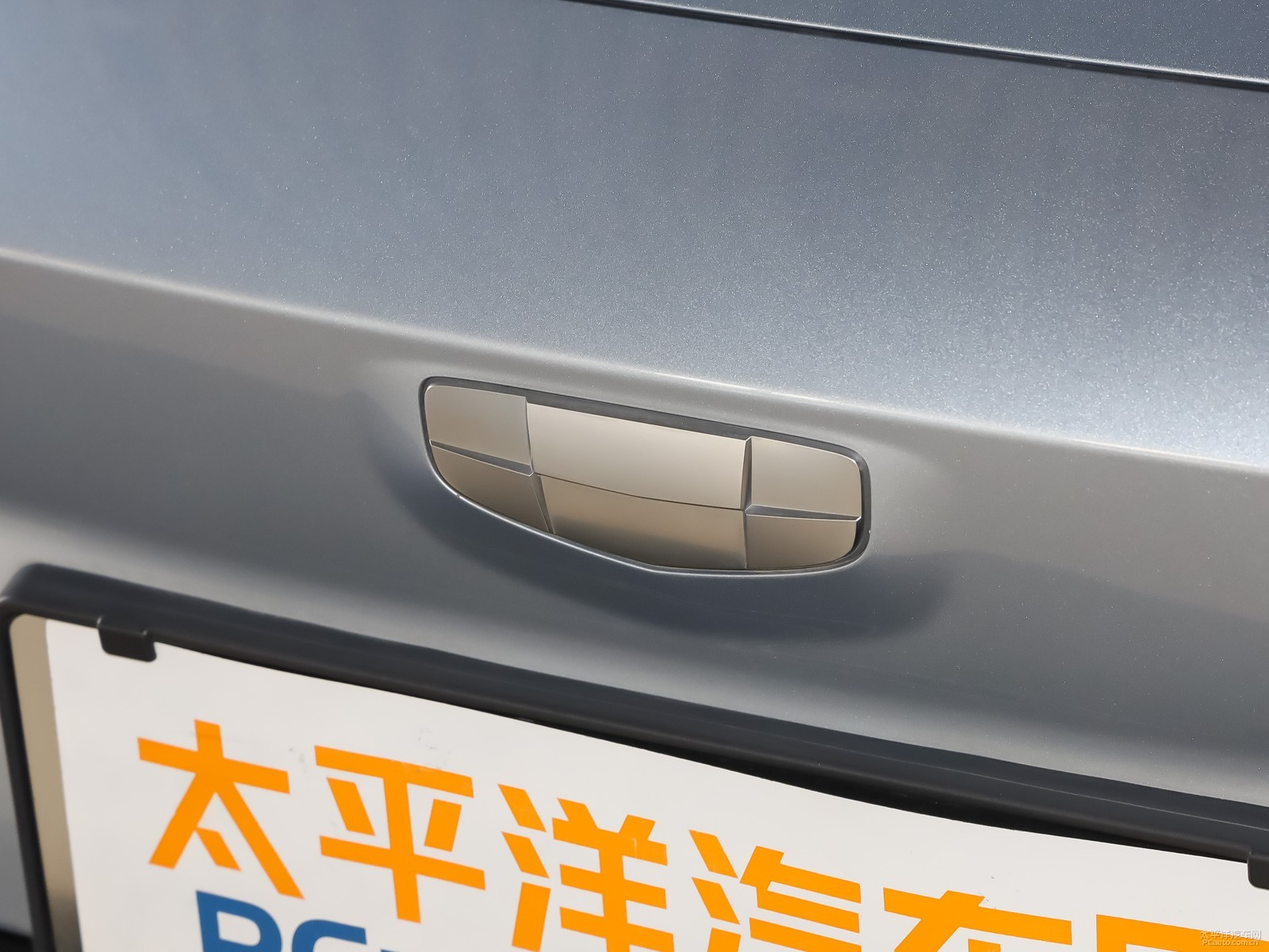GEOMETRY: (424, 386, 863, 569)
